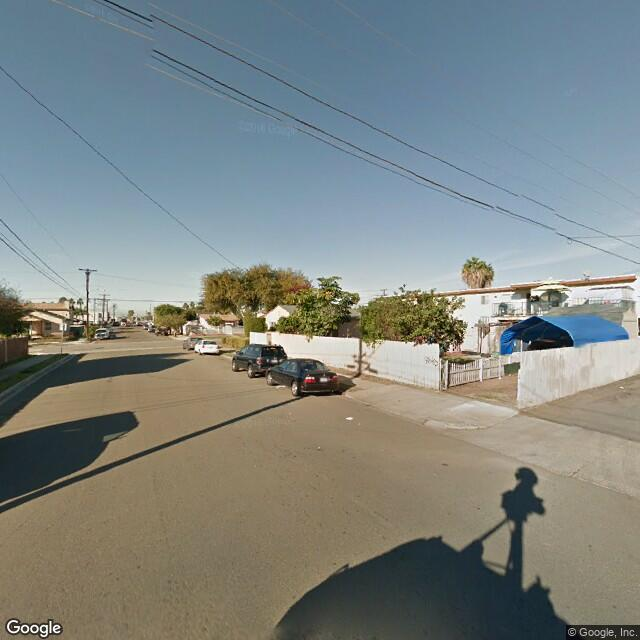litter: (341, 414, 359, 427)
